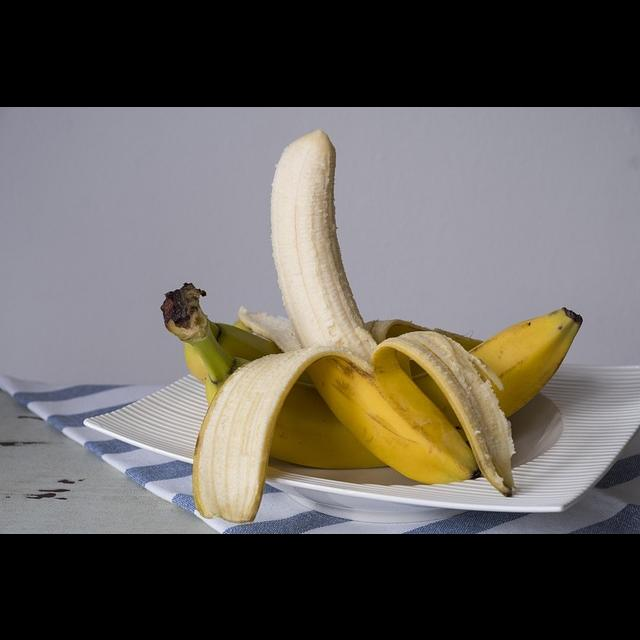banana: (247, 114, 492, 497), (185, 301, 607, 473)
